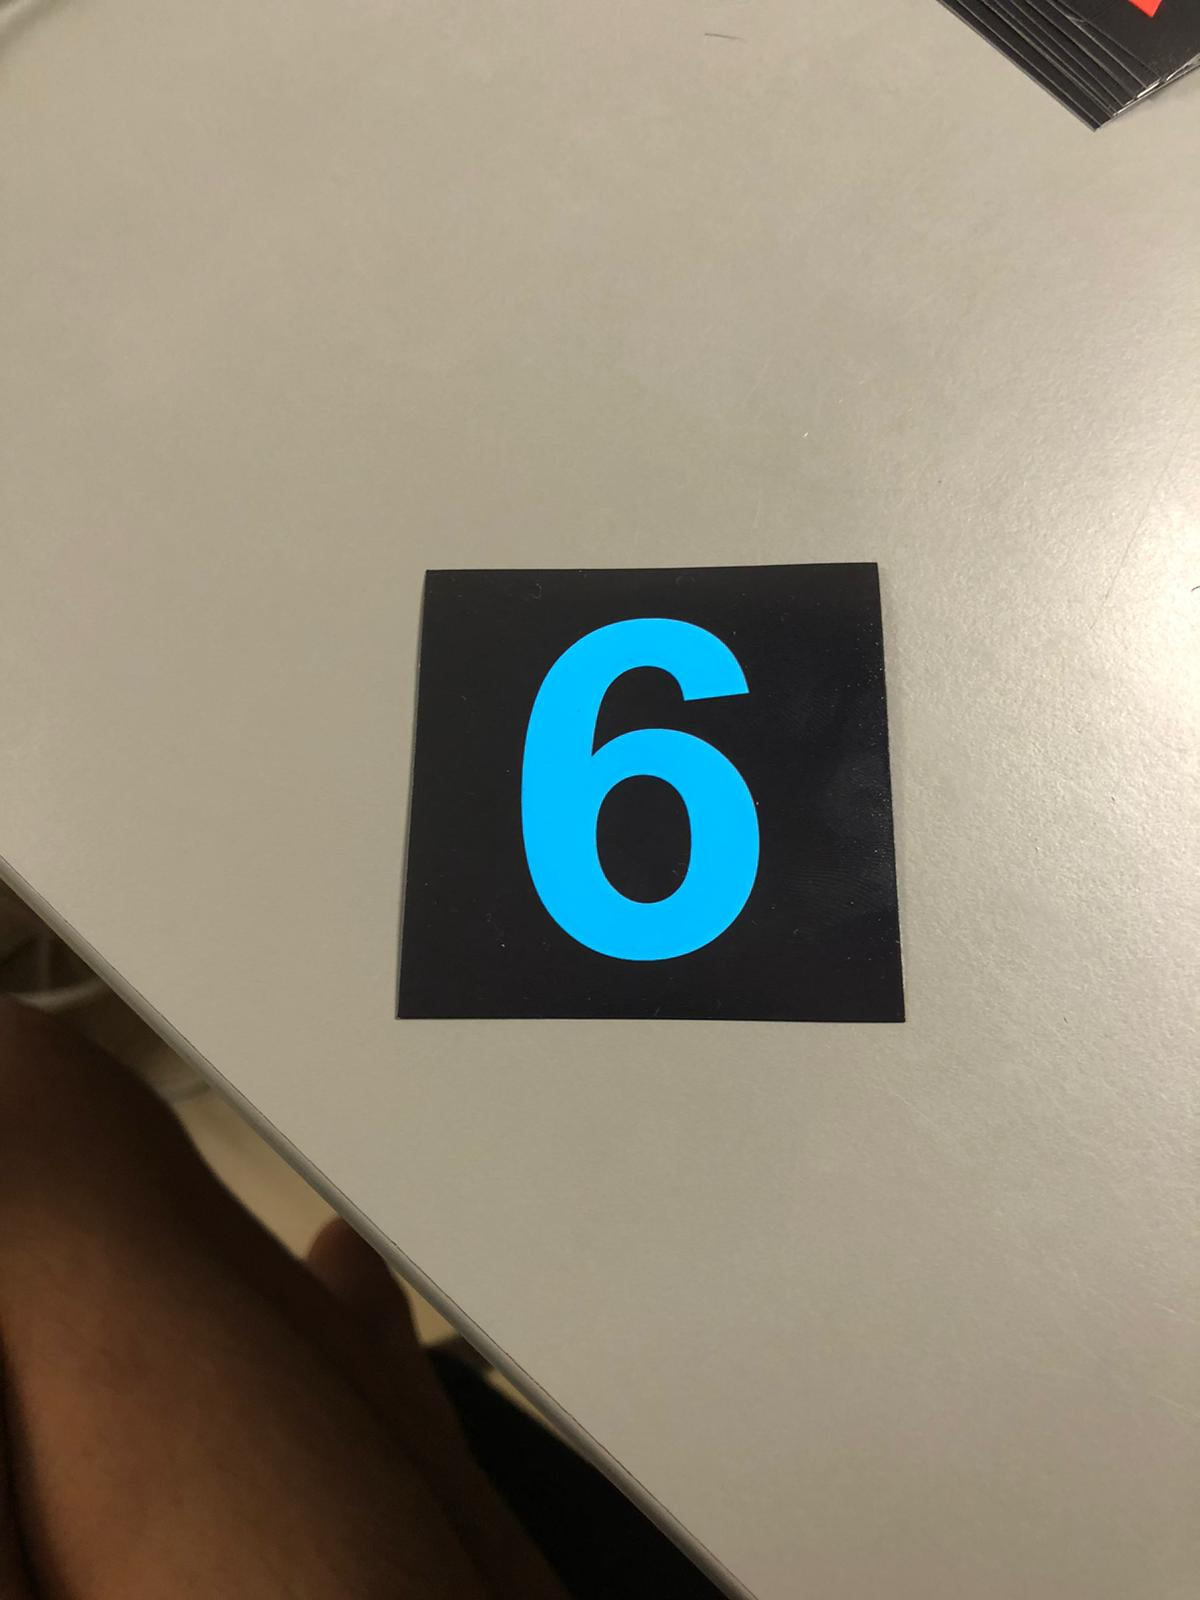Number 6: (441, 585, 855, 994)
